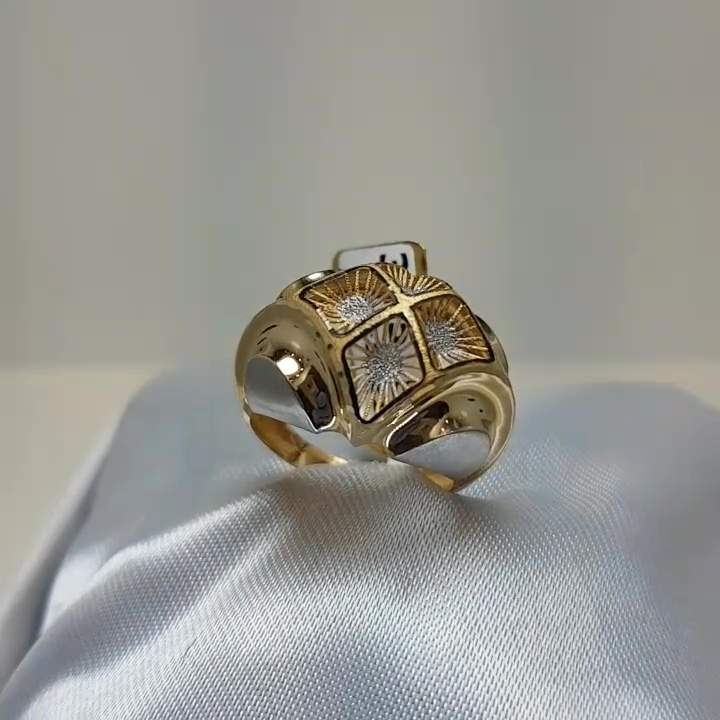Ring 2: (233, 227, 523, 520)
